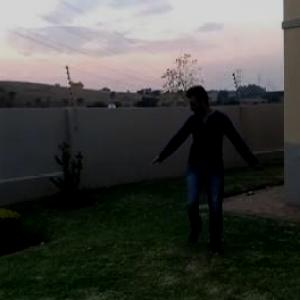land: (151, 88, 258, 254)
